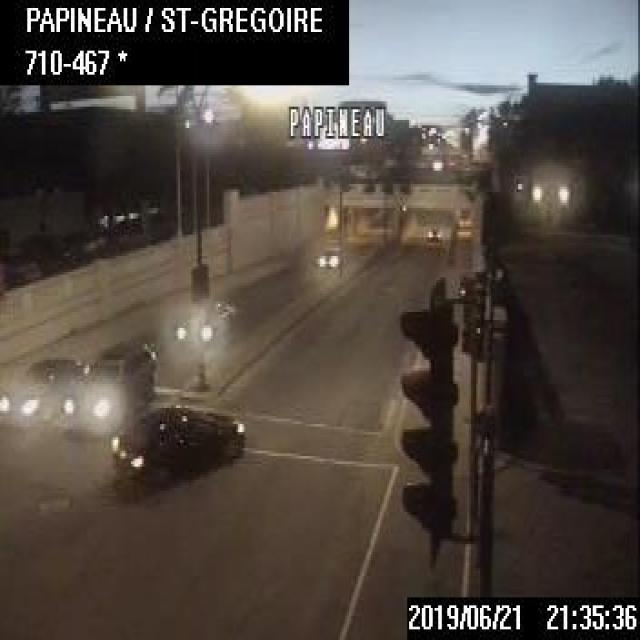vehicle: (104, 404, 246, 486), (58, 332, 157, 437), (0, 354, 78, 434), (169, 290, 240, 346), (311, 242, 338, 266), (424, 224, 444, 244)
